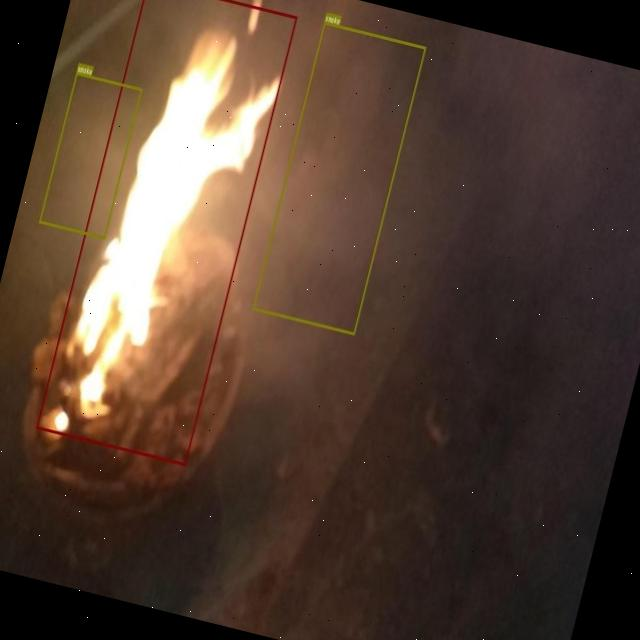fire: (36, 0, 297, 465)
smoke: (252, 21, 426, 334), (38, 72, 142, 238)
